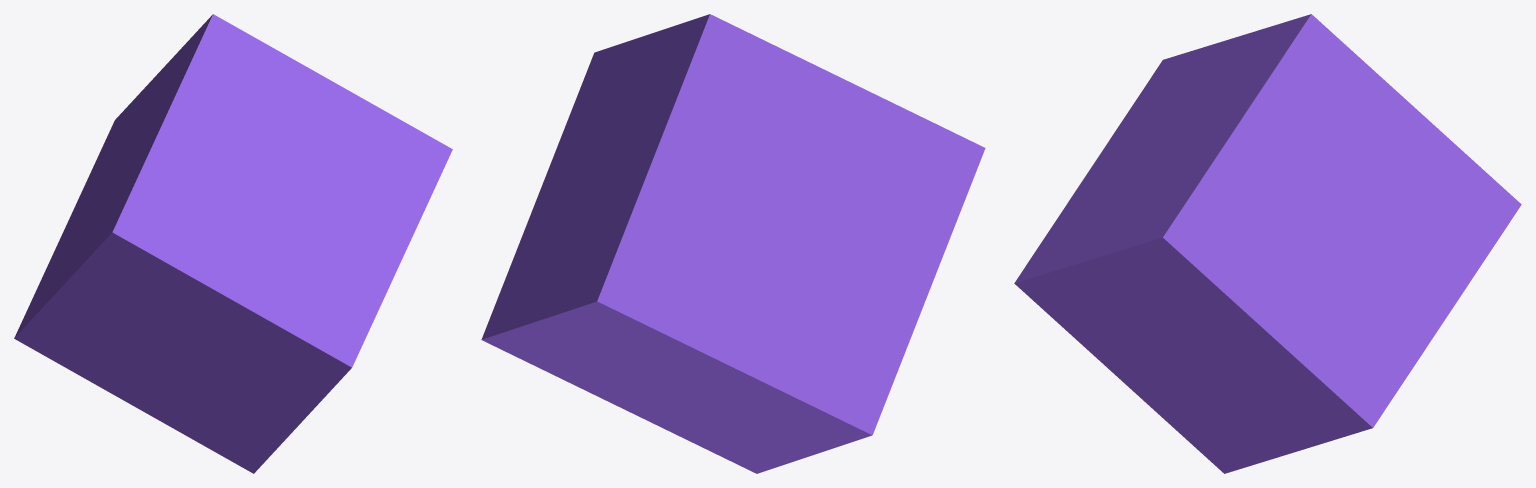
3 renders of one model, left to right at view 1: azimuth 30°, elevation 25°; view 2: azimuth 150°, elevation 25°; view 3: azimuth 270°, elevation 25°, orthographic. The views are drawn at different scales.
Visible parts, largest first — view 1: Cube; view 2: Cube; view 3: Cube.
Boxes of the visible parts, x1,y1,x2,y2 form: Cube: [14, 14, 452, 473]; Cube: [481, 14, 985, 473]; Cube: [1014, 14, 1521, 473].
Size of the model in its own units: 1.04 by 1.25 by 1.25.
